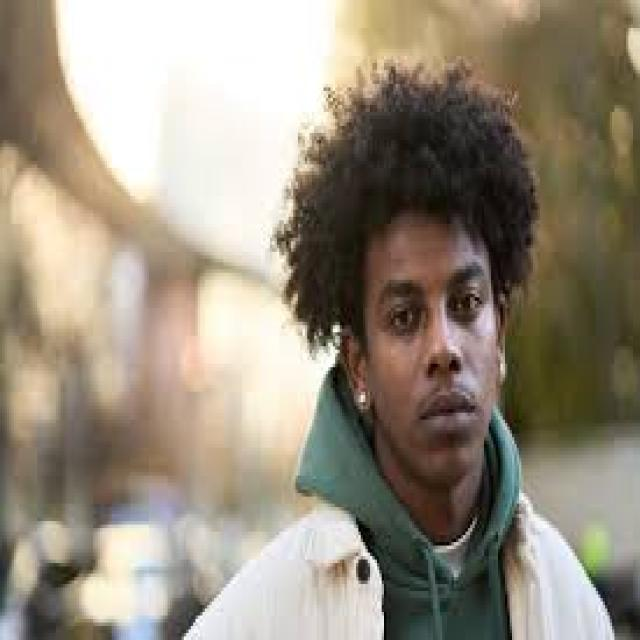natural: (336, 277, 524, 487)
